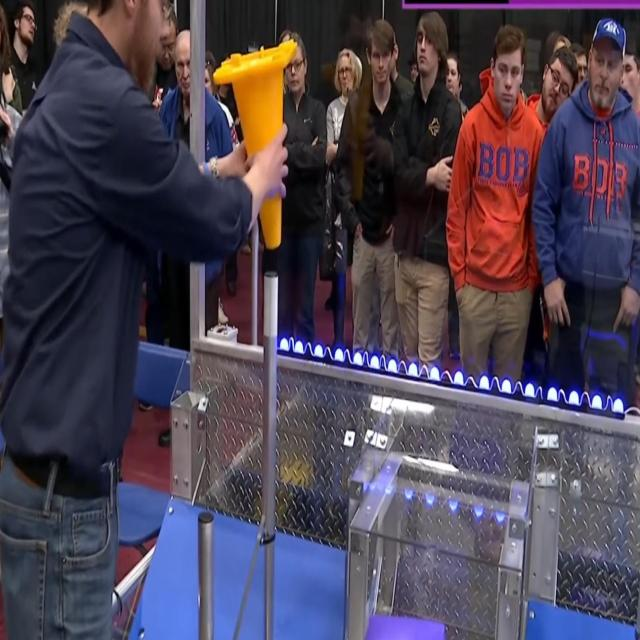frc_cone: (218, 43, 301, 251)
frc_cube: (360, 612, 451, 640)
